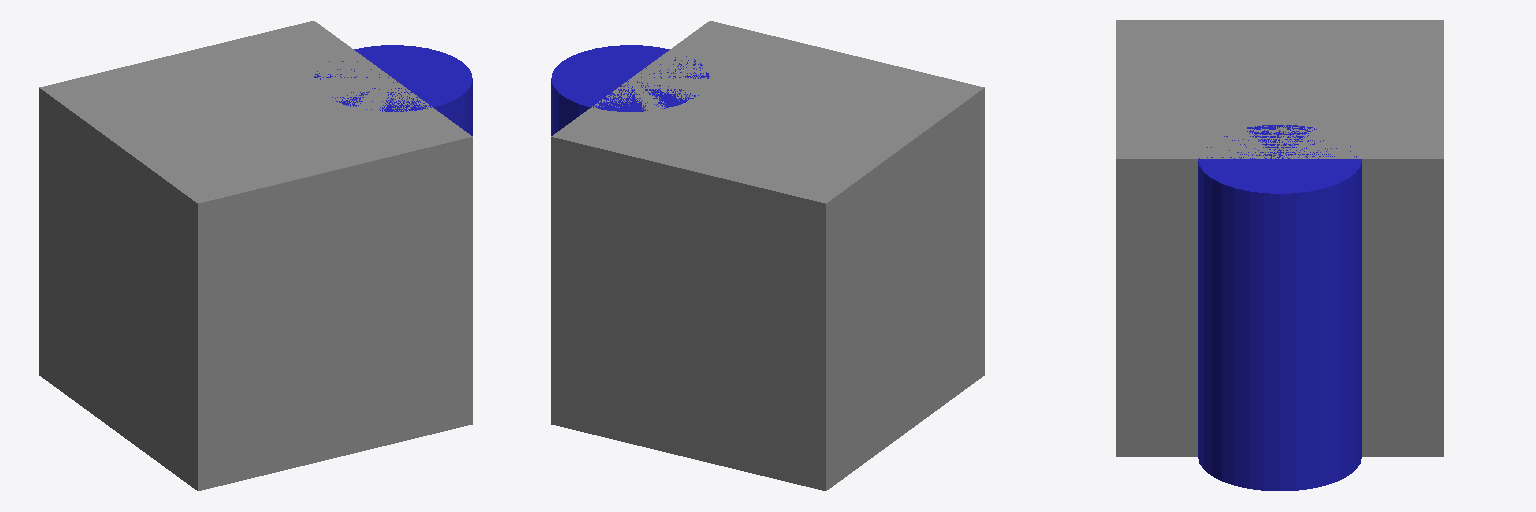
robot.urdf — robot_revolute:
<?xml version="1.0"?>
<robot name="robot_revolute">

  <link name="base_link">
    <inertial>
      <mass value="1.0"/>
      <origin xyz="0 0 0" rpy="0 0 0"/>
      <inertia 
        ixx="0.1" ixy="0.0" ixz="0.0"
        iyy="0.1" iyz="0.0"
        izz="0.1"/>
    </inertial>
    <visual>
      <origin xyz="0 0 0" rpy="0 0 0"/>
      <geometry><box size="0.2 0.2 0.2"/></geometry>
      <material name="Gray"><color rgba="0.6 0.6 0.6 1.0"/></material>
    </visual>
    <collision>
      <origin xyz="0 0 0" rpy="0 0 0"/>
      <geometry><box size="0.2 0.2 0.2"/></geometry>
    </collision>
  </link>

  <link name="link1">
    <inertial>
      <mass value="0.5"/>
      <origin xyz="0.1 0 0" rpy="0 0 0"/>
      <inertia 
        ixx="0.05" ixy="0.0" ixz="0.0"
        iyy="0.05" iyz="0.0"
        izz="0.05"/>
    </inertial>
    <visual>
      <origin xyz="0.1 0 0" rpy="0 0 0"/>
      <geometry><cylinder length="0.2" radius="0.05"/></geometry>
      <material name="Blue"><color rgba="0.2 0.2 0.8 1.0"/></material>
    </visual>
    <collision>
      <origin xyz="0.1 0 0" rpy="0 0 0"/>
      <geometry><cylinder length="0.2" radius="0.05"/></geometry>
    </collision>
  </link>

  <joint name="joint_revolute_1" type="revolute">
    <parent link="base_link"/>
    <child link="link1"/>
    <axis xyz="0 0 1"/>
    <origin xyz="0 0 0" rpy="0 0 0"/>
    <limit lower="-1.57" upper="1.57" effort="10" velocity="1.0"/>
  </joint>

</robot>

--- Render facts (derived) ---
The picture shows the robot from 3 angles, left to right: view 1: azimuth 30°, elevation 25°; view 2: azimuth 150°, elevation 25°; view 3: azimuth 270°, elevation 25°; orthographic projection.
Model robot_revolute with 2 links and 1 joints (1 revolute), rooted at base_link, posed all joints at 0.
Visible links, largest first — view 1: base_link, link1; view 2: base_link, link1; view 3: base_link, link1.
Link boxes in pixels (x1,y1,x2,y2): base_link: (39,21,472,490); link1: (314,45,472,135); base_link: (551,21,984,490); link1: (551,45,709,135); base_link: (1116,20,1443,456); link1: (1198,125,1361,490).
Size in the robot's own frame: 0.25 by 0.2 by 0.2 metres.
Geometry: primitives only (box / cylinder / sphere), no mesh files.